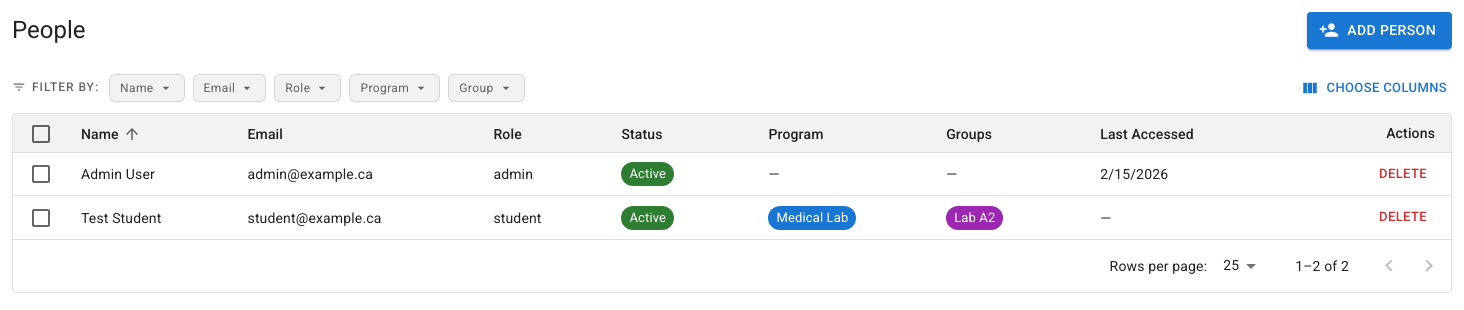
Test: PeoplePage › shows bulk action buttons when users are selected
Expected: the text "Admin User" is shown, [81,164,155,184]
What coordinates should you click on to do the following:
click the checkbox next to "Admin User"
I would click on:
 (41, 174)
Its box is [29,162,53,186].
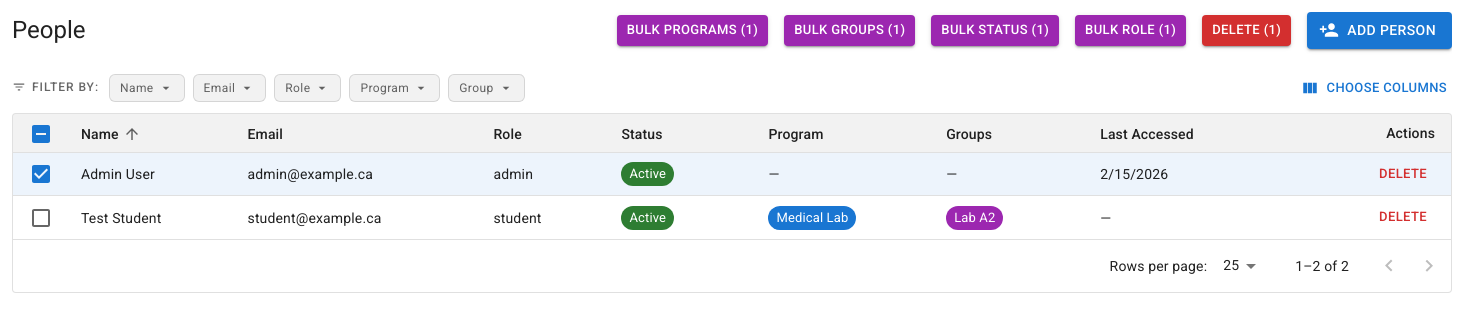
Expected: the button "Bulk Programs (1)" is shown, [617,15,768,46]
Expected: the button "Bulk Role (1)" is shown, [1075,15,1186,46]
Expected: the button "Delete (1)" is shown, [1202,15,1291,46]
